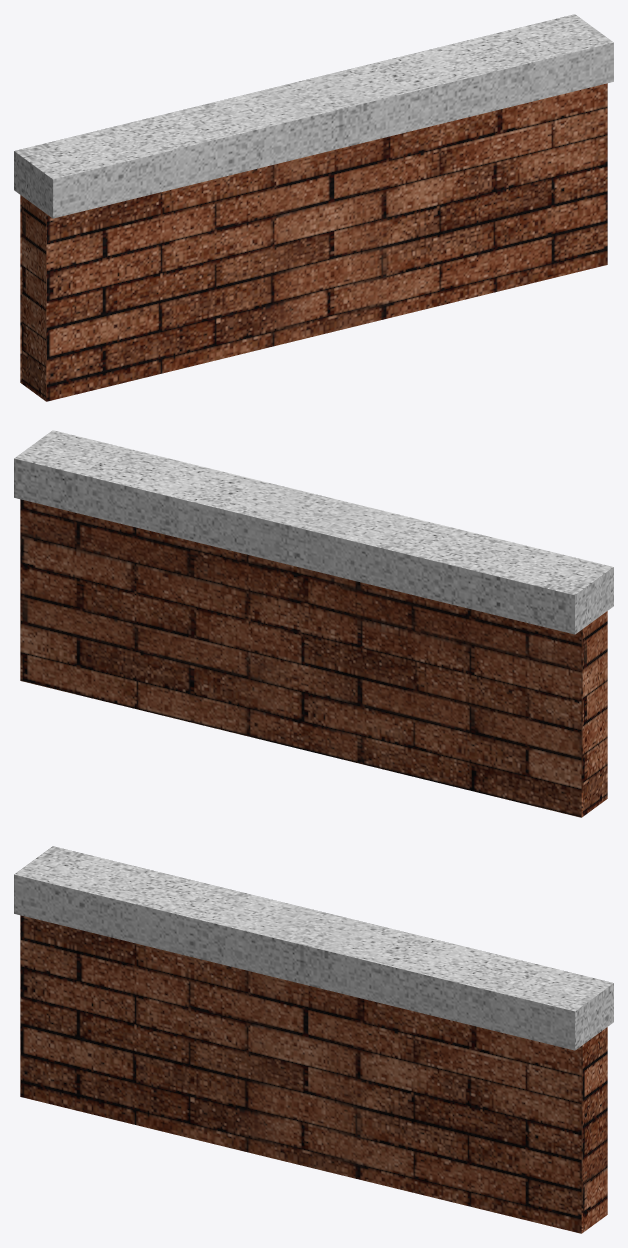
File: brickwall.fbx
3 views of the same model, one above another, from view 1: azimuth 30°, elevation 25°; view 2: azimuth 150°, elevation 25°; view 3: azimuth 330°, elevation 25° (orthographic).
Visible parts, largest first — view 1: brickwall, white texture; view 2: brickwall, white texture; view 3: brickwall, white texture.
Part boxes in pixels (<box>): brickwall: <box>20,83,607,401</box>; white texture: <box>14,14,613,218</box>; brickwall: <box>20,499,607,817</box>; white texture: <box>14,430,613,634</box>; brickwall: <box>20,915,607,1233</box>; white texture: <box>14,846,613,1050</box>.
Size of the model in its own units: 234 by 90.62 by 28.12.
Materials: 2 (2 with a texture image).
